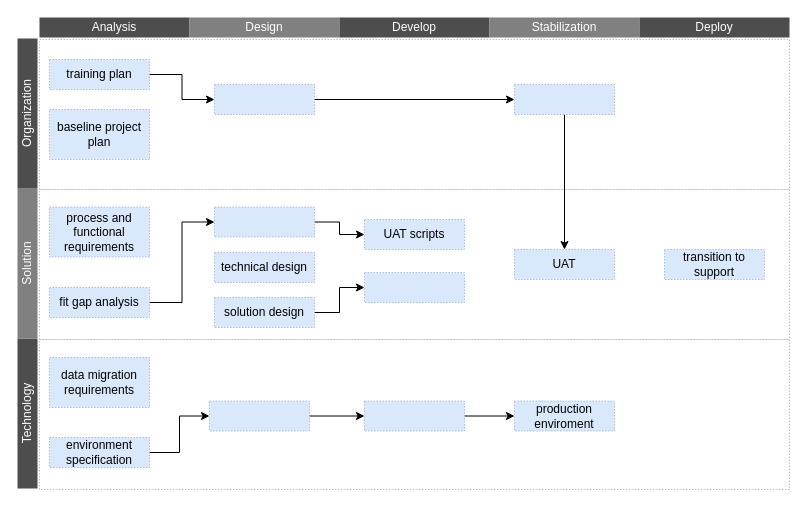
This 807x507 diagram has some shape labels left out. Each missing label, with the centre of its shape:
"deployment plan" goes at (264,99).
"functional design" goes at (264,221).
"integration and interface design" goes at (259,415).
"production specifics" goes at (414,415).
"solution testing" goes at (414,287).
"User training" goes at (564,99).
